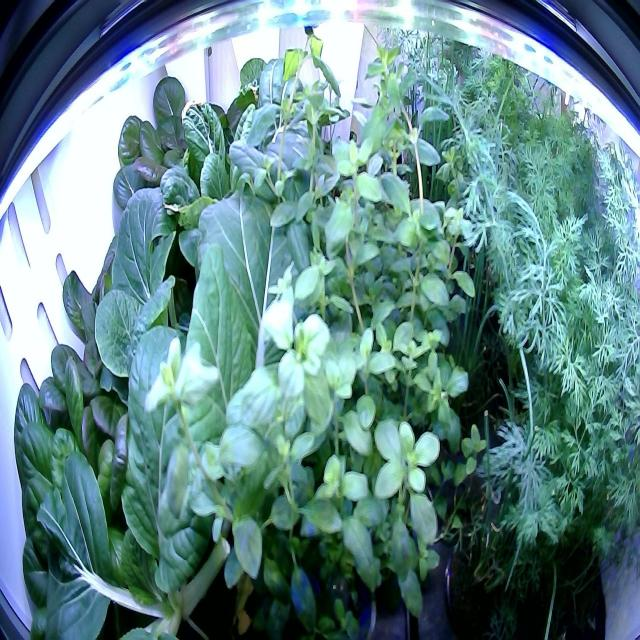Ready: (5, 368, 178, 638), (30, 221, 180, 452), (109, 64, 246, 227)
